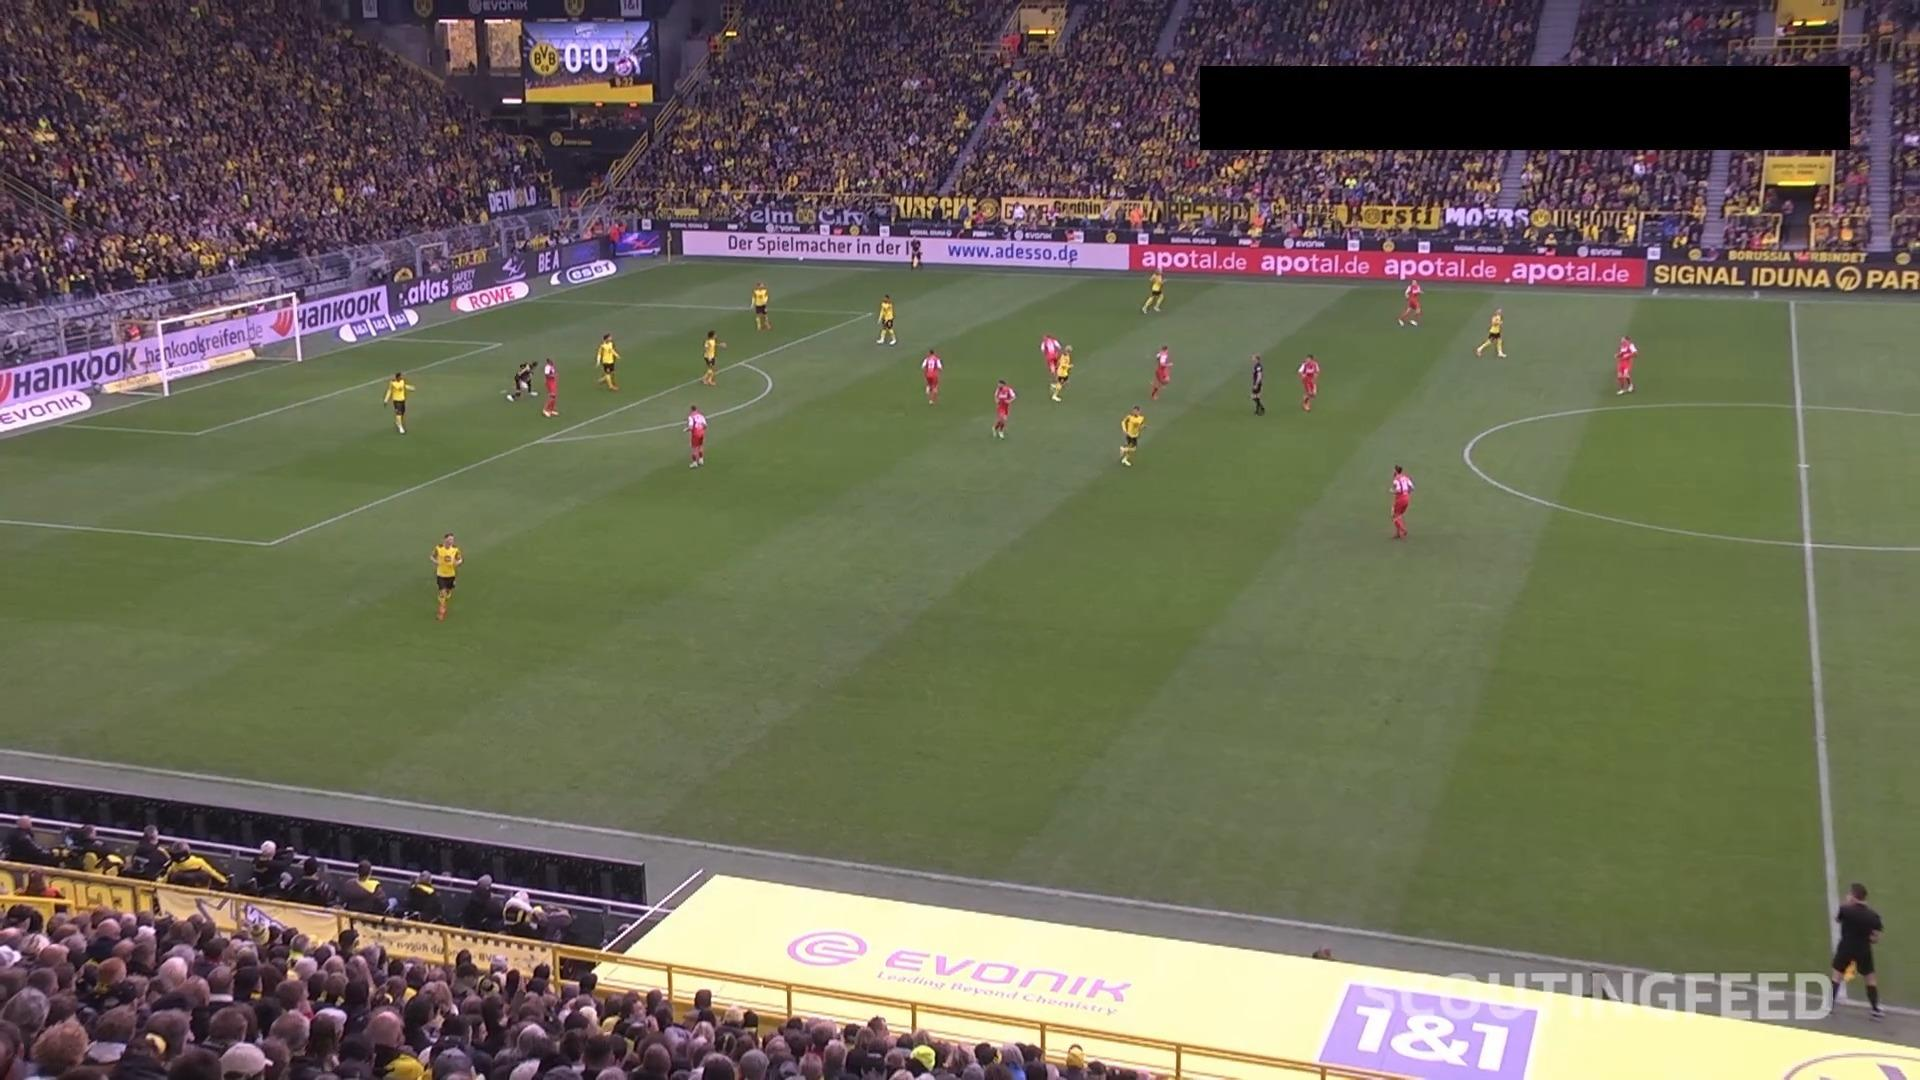ball: (1040, 334, 1060, 359)
player: (429, 532, 463, 621), (382, 371, 414, 434), (1387, 463, 1413, 538), (1474, 306, 1506, 358), (682, 403, 707, 468), (1118, 404, 1144, 466), (1039, 332, 1062, 400), (594, 332, 619, 391), (504, 359, 537, 402), (991, 379, 1015, 438), (1614, 333, 1637, 394), (1296, 353, 1320, 411), (1050, 343, 1073, 401), (1149, 344, 1172, 399), (920, 347, 942, 404), (539, 356, 559, 417), (1397, 278, 1422, 326), (701, 329, 722, 386), (1139, 269, 1165, 314), (875, 293, 896, 345), (750, 280, 771, 331)
referee: (1827, 880, 1886, 1019), (1248, 353, 1265, 415), (908, 236, 923, 268)
